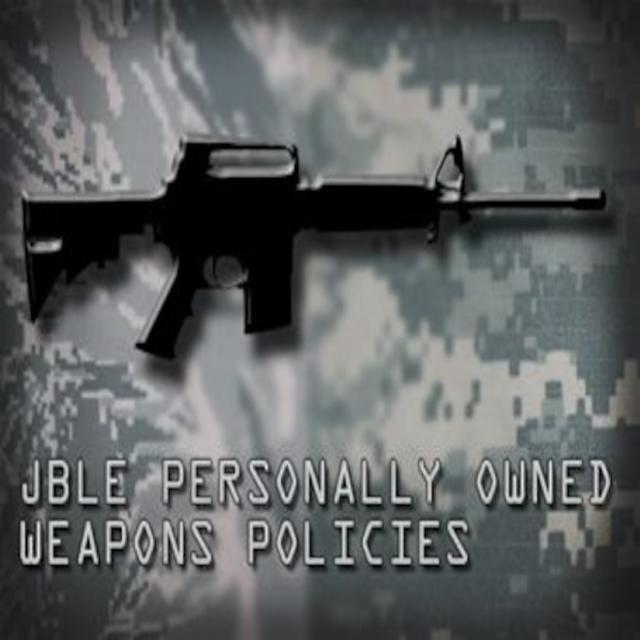Rifle: (24, 136, 607, 361)
